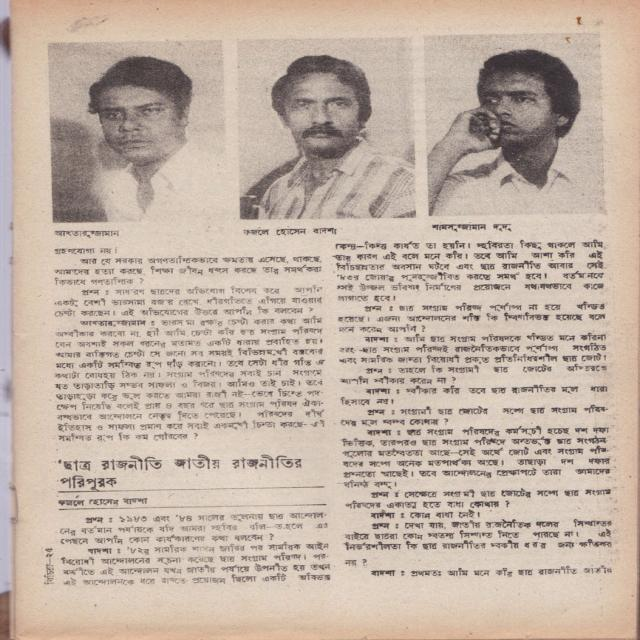caption: (49, 228, 124, 241), (240, 228, 342, 237), (426, 222, 520, 231)
image: (46, 38, 223, 221), (431, 31, 602, 214)
page number: (44, 546, 56, 560)
paragraph: (50, 312, 331, 444), (328, 235, 609, 307), (334, 422, 616, 491), (339, 514, 620, 568), (58, 538, 338, 589), (53, 509, 333, 549), (333, 298, 612, 337), (49, 251, 327, 289), (51, 282, 328, 320), (333, 330, 613, 366), (337, 380, 615, 410), (336, 401, 618, 430), (341, 485, 618, 514), (336, 363, 613, 388), (363, 562, 619, 583), (365, 507, 482, 521), (50, 244, 123, 256)
text: (42, 562, 57, 587)
title: (49, 449, 313, 490), (53, 496, 151, 507)
